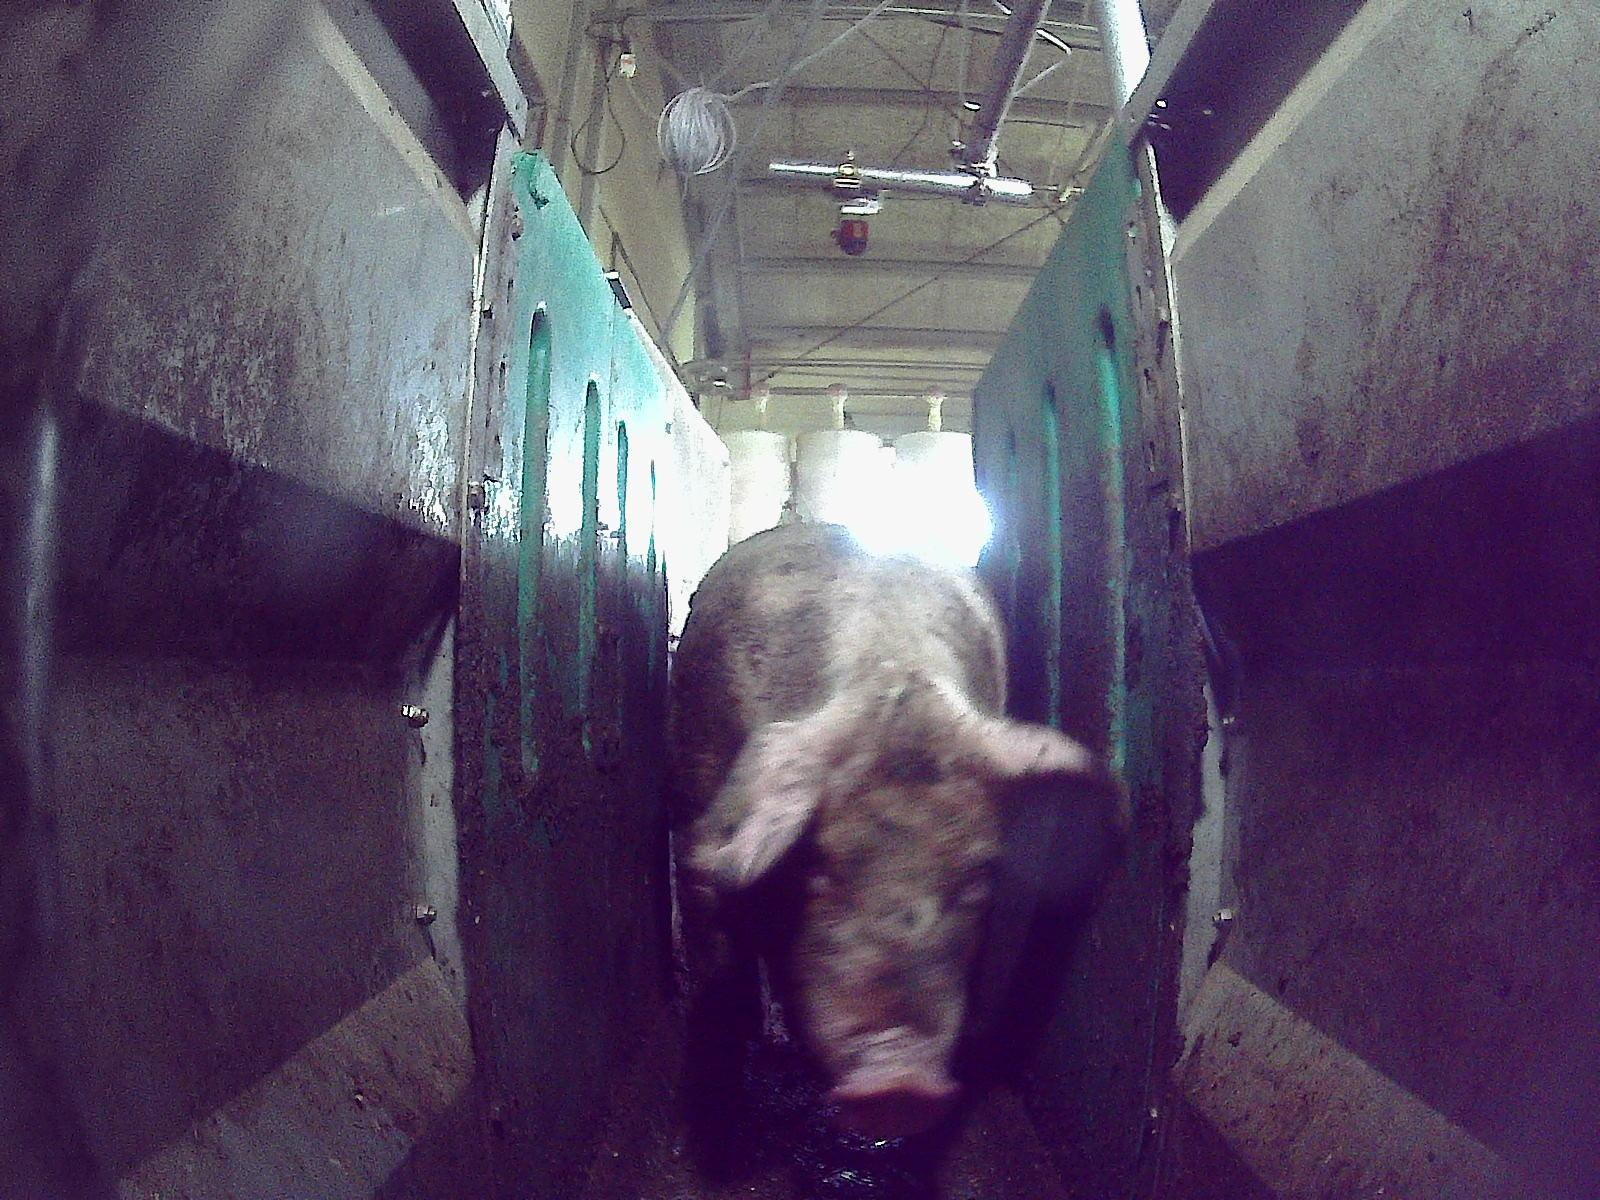Face: (785, 717, 1007, 1138)
